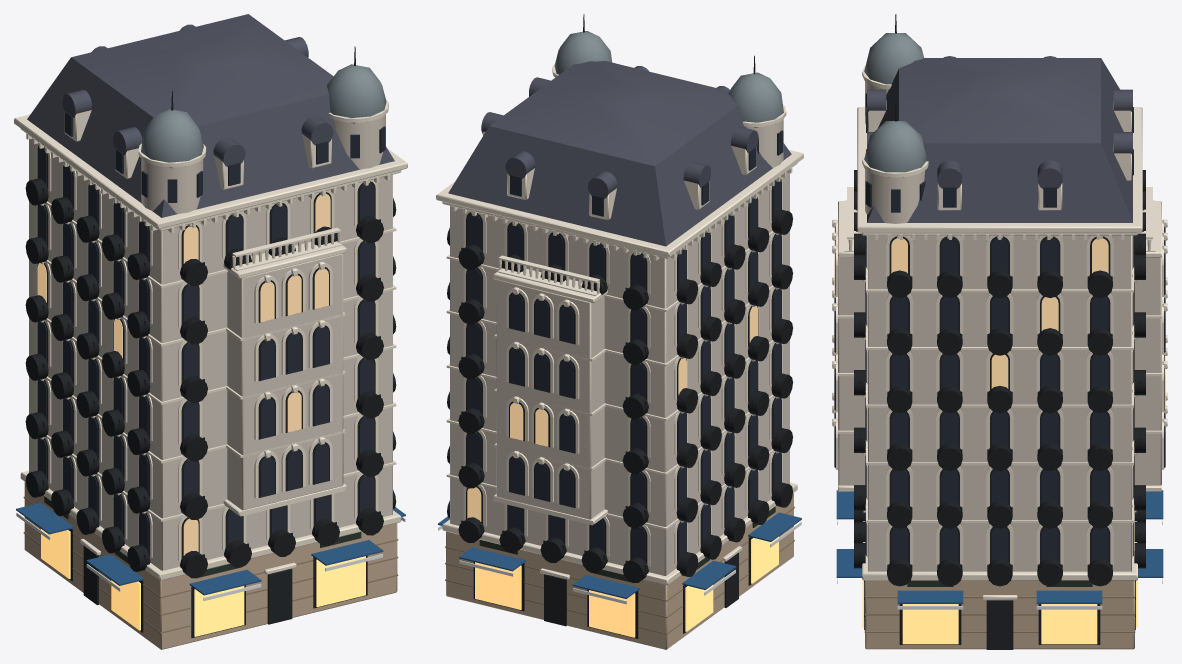
File: building_nv_b.fbx
3 renders of one model, left to right at view 1: azimuth 30°, elevation 25°; view 2: azimuth 150°, elevation 25°; view 3: azimuth 270°, elevation 25°, orthographic. The views are drawn at different scales.
Visible parts, largest first — view 1: building_nv_b; view 2: building_nv_b; view 3: building_nv_b.
Boxes of the visible parts, x1,y1,x2,y2 form: building_nv_b: (14, 14, 407, 649); building_nv_b: (436, 14, 803, 649); building_nv_b: (832, 14, 1167, 649).
Size of the model in its own units: 16.94 by 30.6 by 17.39.
